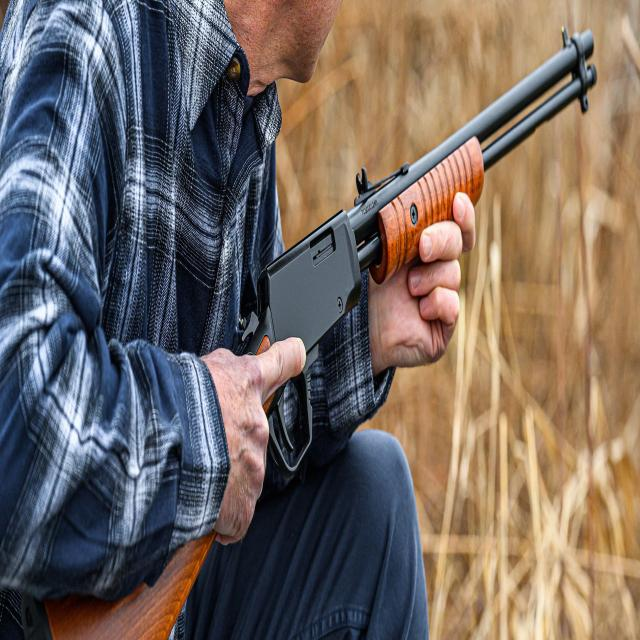ShotGun: (47, 31, 597, 640)
